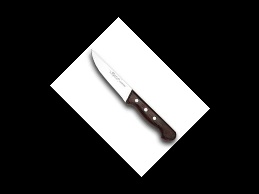k1: (89, 46, 137, 107)
